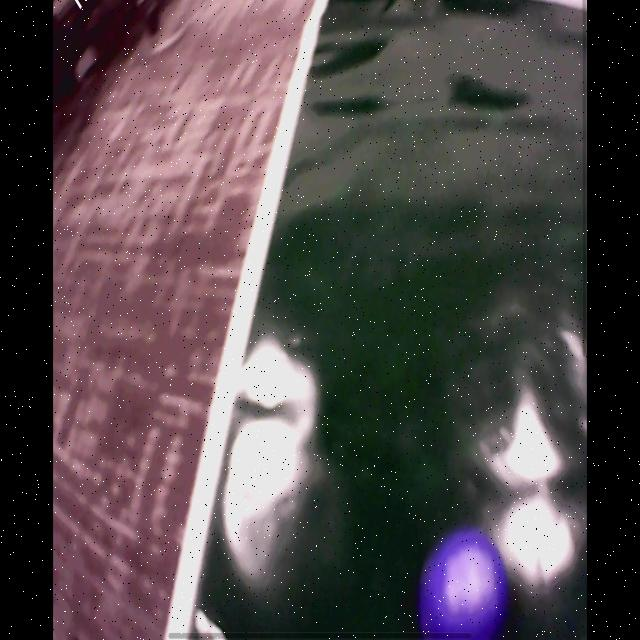ball: (418, 532, 506, 637)
